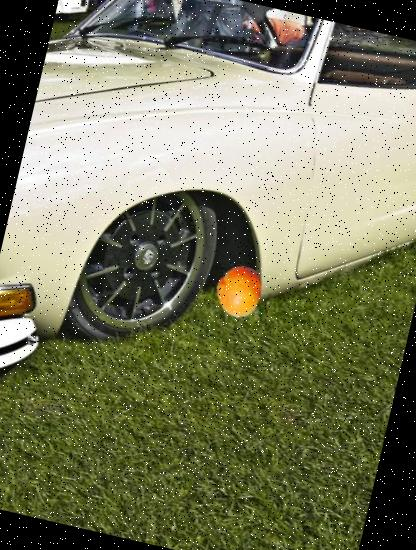Mandarine: (206, 260, 270, 324)
